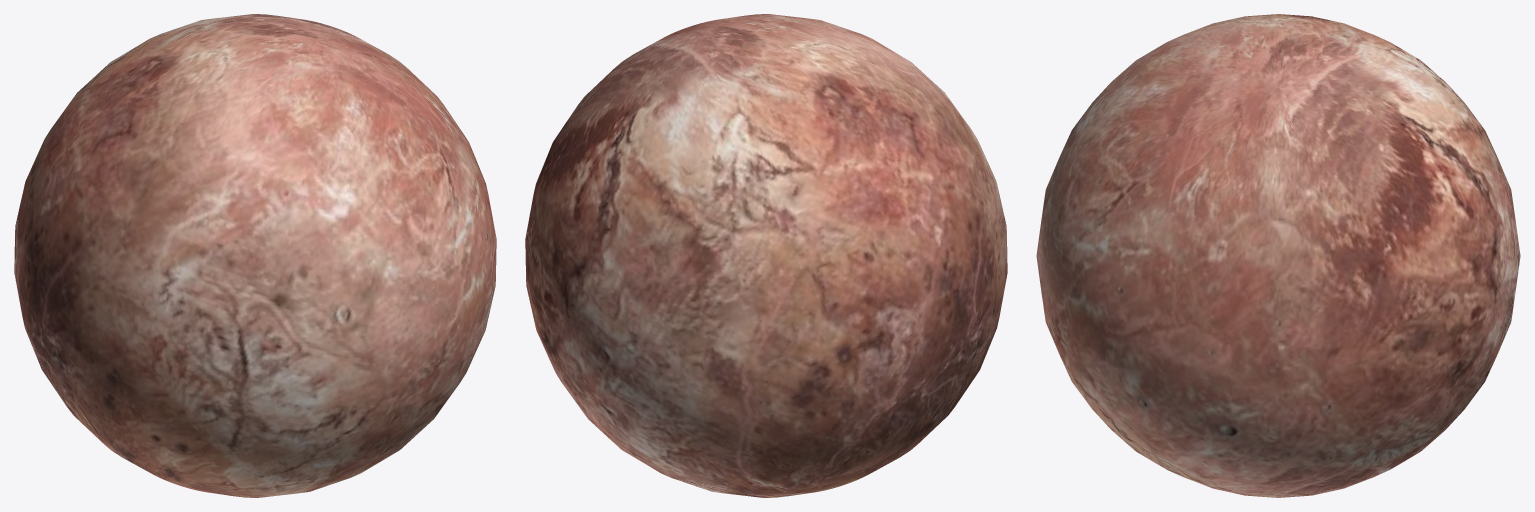
The model's file is mars-globe.glb.
The picture shows the model from 3 angles, left to right: view 1: azimuth 30°, elevation 25°; view 2: azimuth 150°, elevation 25°; view 3: azimuth 270°, elevation 25°; orthographic projection.
Visible parts, largest first — view 1: Globe_Material.002_0; view 2: Globe_Material.002_0; view 3: Globe_Material.002_0.
Boxes of the visible parts, box(x1,y1,x2,y2) form: Globe_Material.002_0: box(14, 14, 496, 497); Globe_Material.002_0: box(525, 14, 1007, 497); Globe_Material.002_0: box(1036, 14, 1520, 497).
Bounding box in the file's own units: 14.26 × 14.26 × 14.26.
Materials: 1 (1 with a texture image).
